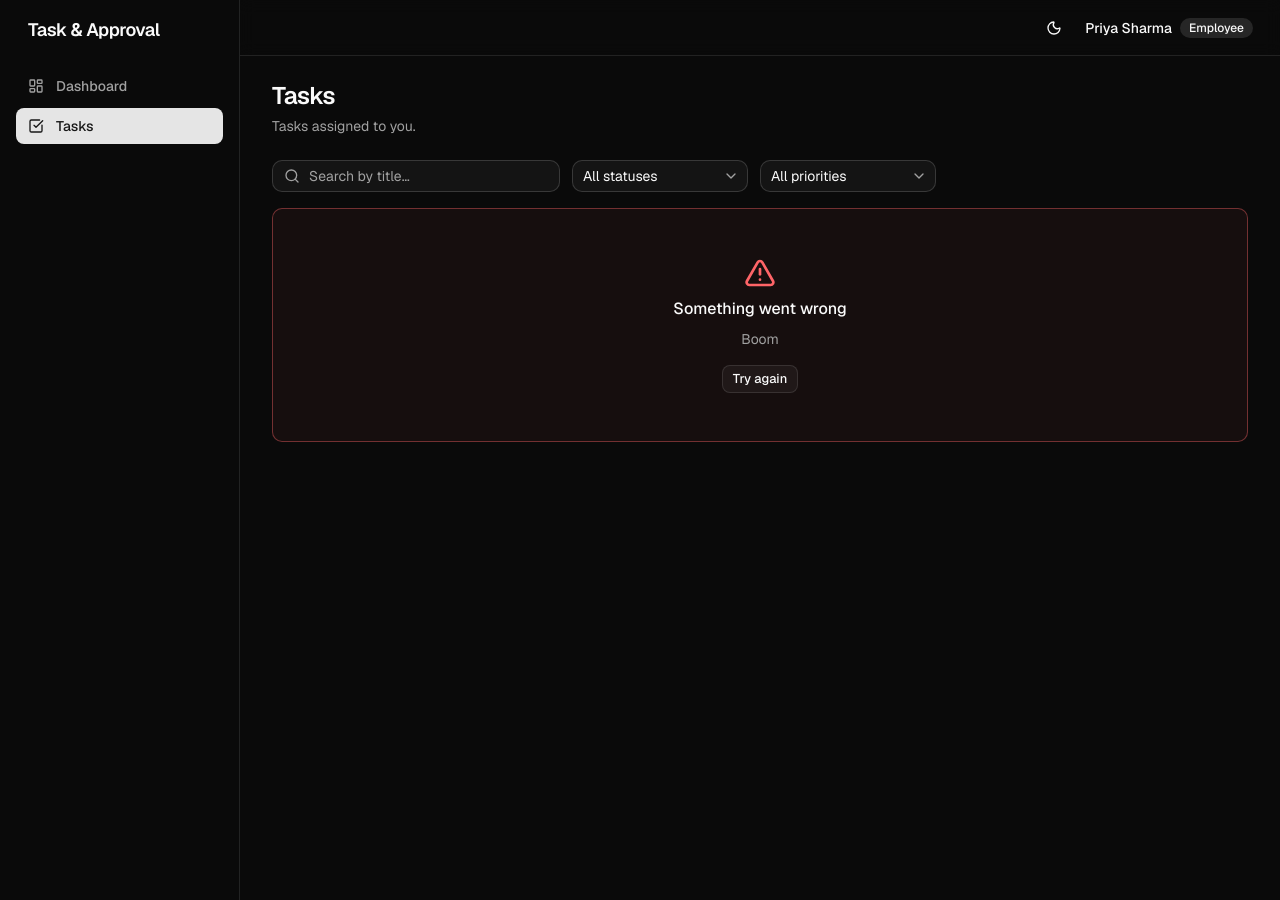
Test: TasksPage › shows an error state with a retry
The width and height of the screenshot is (1280, 900).
Click the button "Try again" at (760, 379), box left=722, top=365, right=798, bottom=393
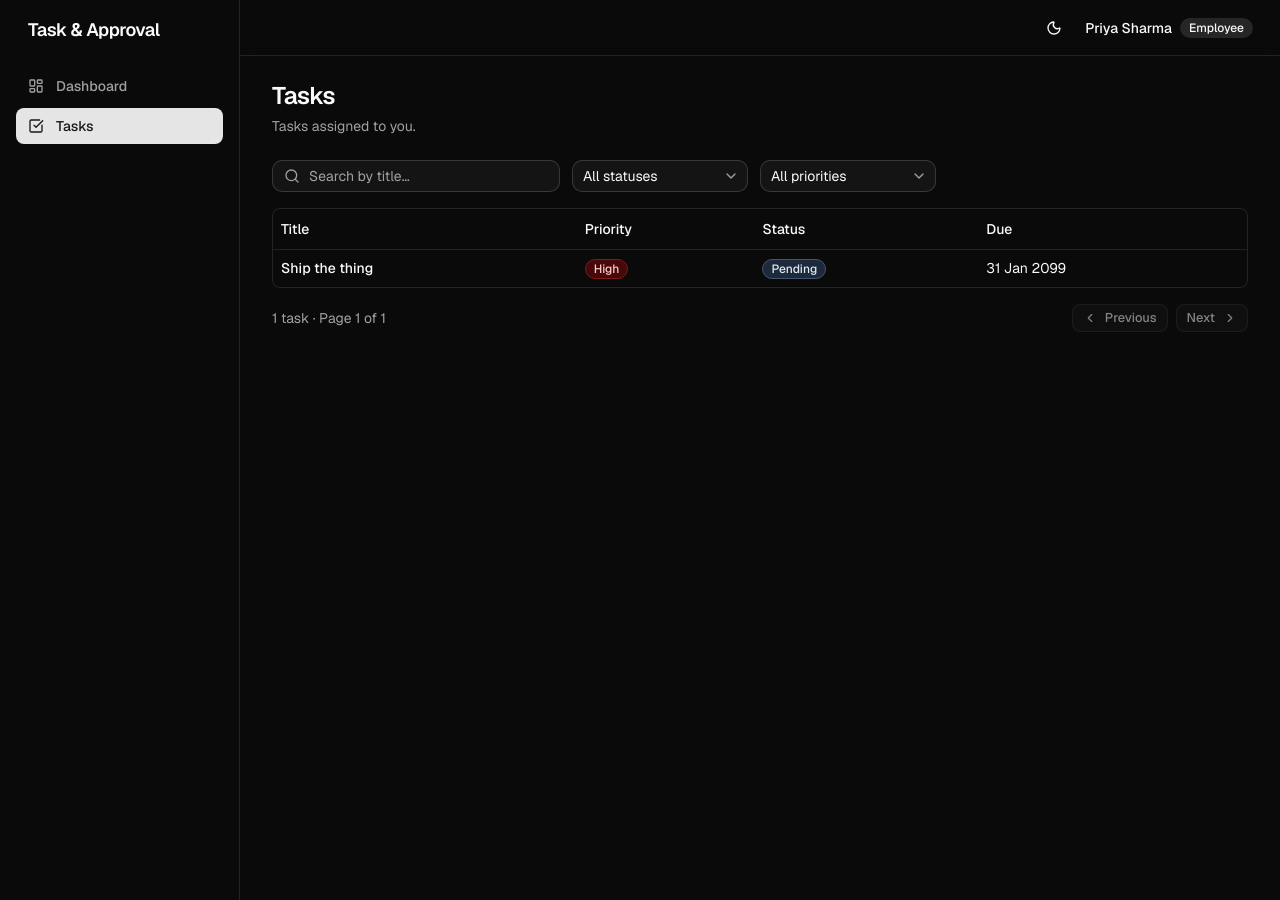
Expected: the link "Ship the thing" is shown, left=281, top=259, right=373, bottom=277
